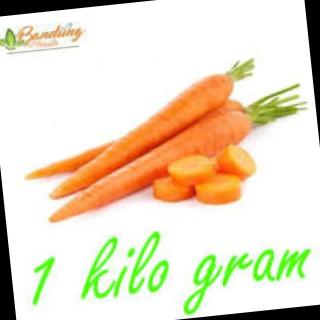Wortel: (37, 69, 248, 201), (39, 109, 264, 225)
